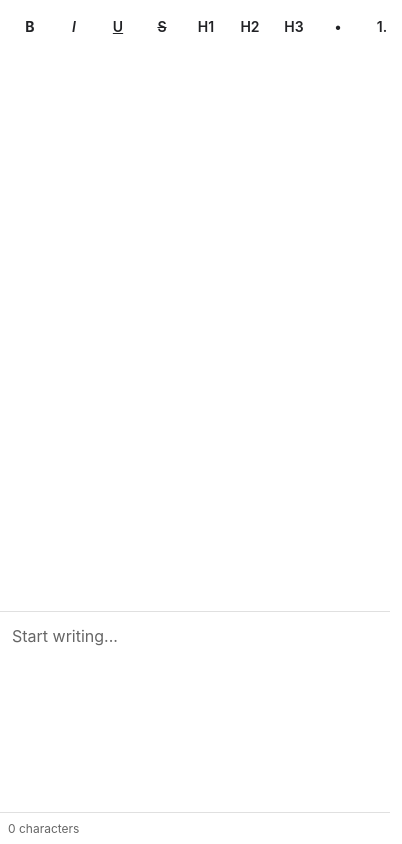
Test: RichTextEditor › Character and Word Count › should display character count
Type "Hello world" into the text box with placeholder "Start writing...".
click(201, 712); type("Hello world")  # box [12, 624, 390, 800]
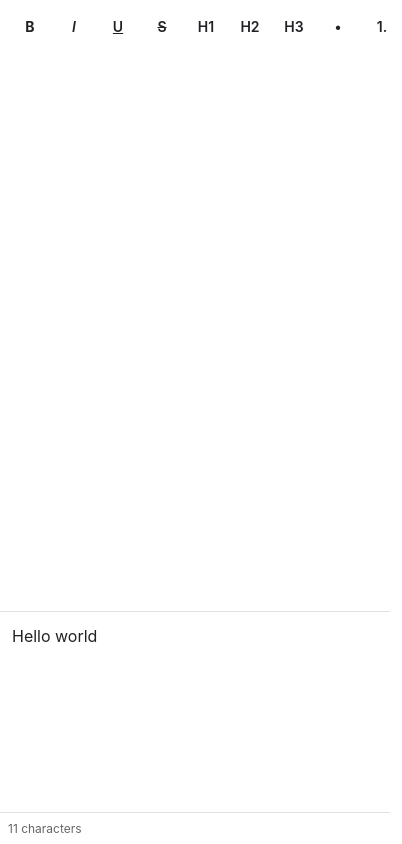
Check: the text "11 characters" is shown, box [8, 821, 82, 836]
